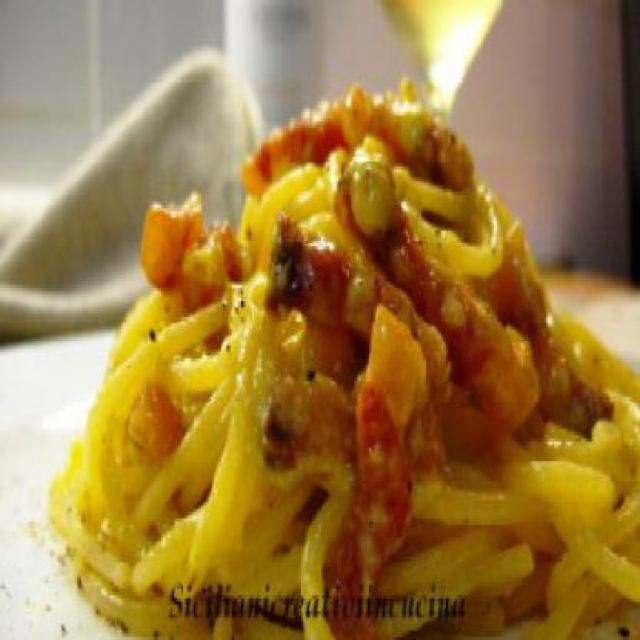Pasta with carbonara sauce: (79, 58, 638, 550)
